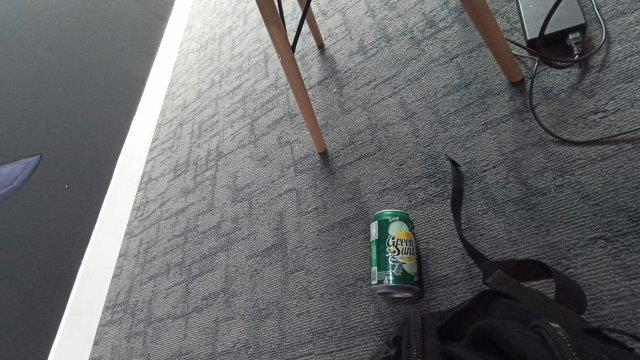kaleng: (370, 209, 418, 298)
